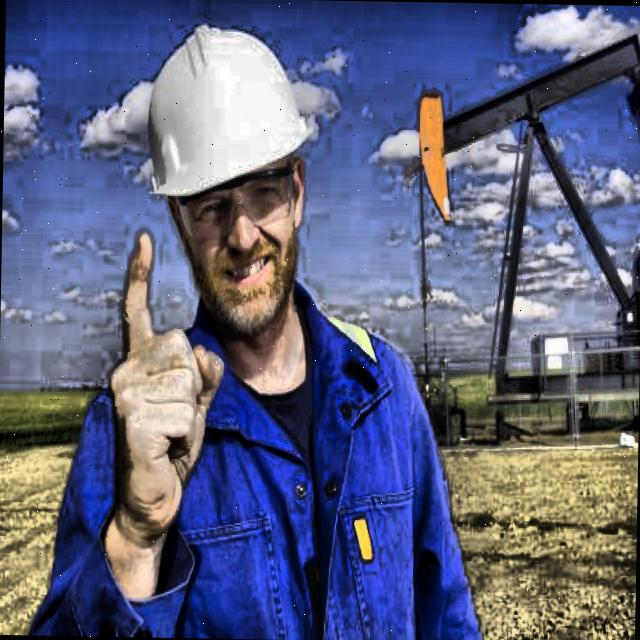helmet: (126, 4, 331, 364)
